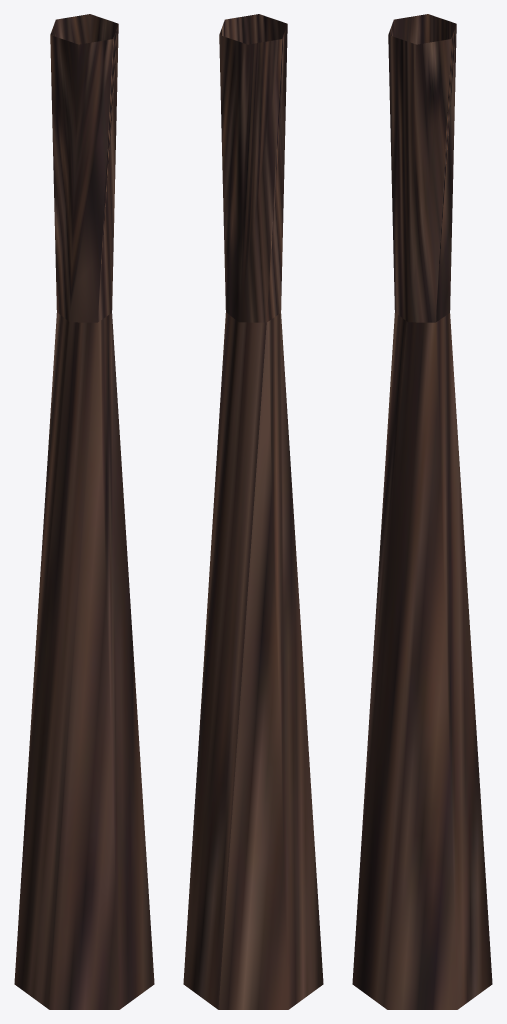
Rendered from centraltree.fbx.
The picture shows the model from 3 angles, left to right: view 1: azimuth 30°, elevation 25°; view 2: azimuth 150°, elevation 25°; view 3: azimuth 270°, elevation 25°; orthographic projection.
Visible parts, largest first — view 1: CentralTree; view 2: CentralTree; view 3: CentralTree.
Part boxes in pixels (bbox=[...]): CentralTree: bbox=[14, 14, 154, 1009]; CentralTree: bbox=[183, 14, 323, 1009]; CentralTree: bbox=[352, 14, 492, 1009].
Size of the model in its own units: 938 by 8146 by 1083.
